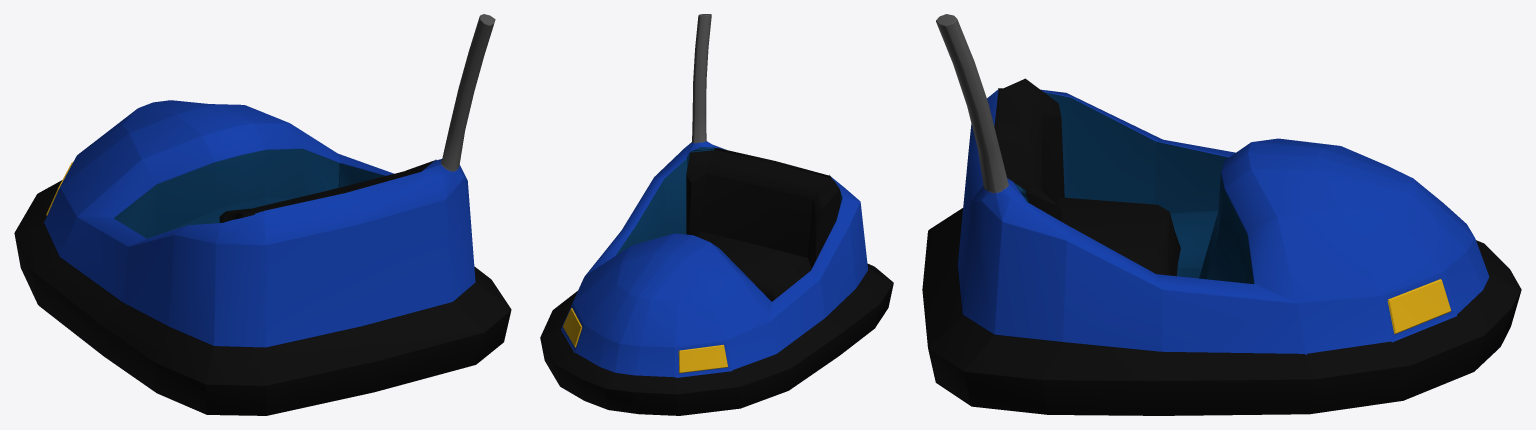
The model's file is Auto_tamponneuse_Bleu_v1_002.FBX.
3 views of the same model, side by side, from view 1: azimuth 30°, elevation 25°; view 2: azimuth 150°, elevation 25°; view 3: azimuth 270°, elevation 25° (orthographic). The views are drawn at different scales.
Visible parts, largest first — view 1: BumperCar003; view 2: BumperCar003; view 3: BumperCar003.
Part boxes in pixels (x1,y1,x2,y2): BumperCar003: (14,14,511,415); BumperCar003: (540,14,893,415); BumperCar003: (922,14,1521,415).
Size of the model in its own units: 59.47 by 57.75 by 82.37.
